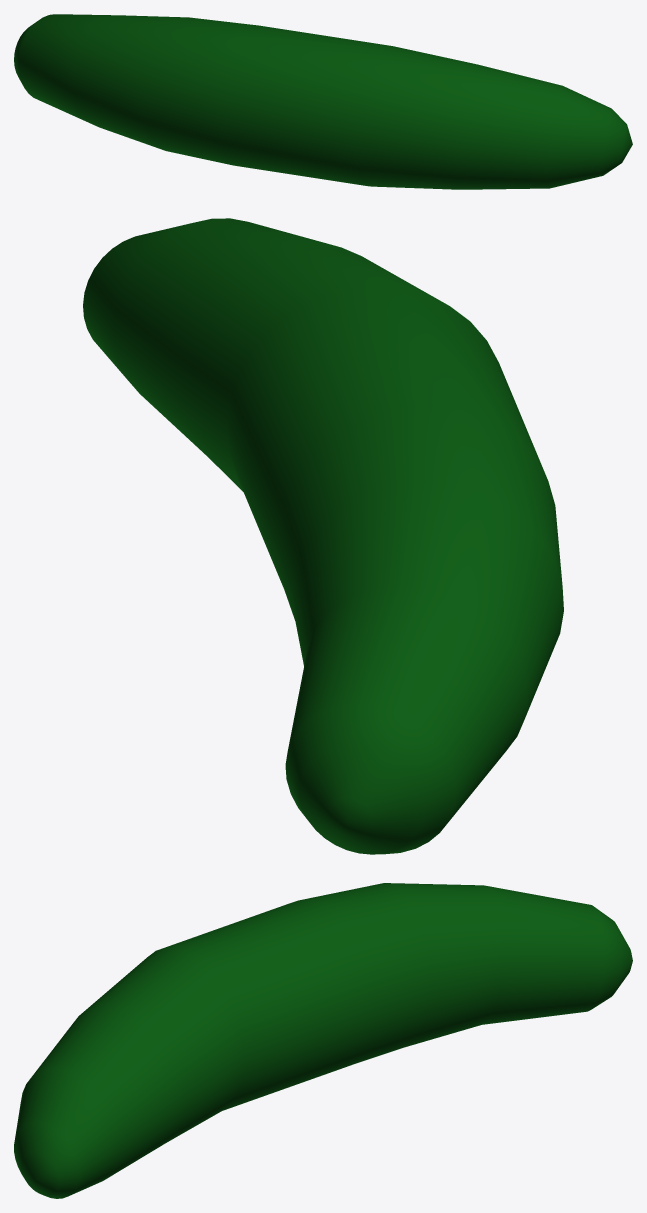
File: Cucumber.fbx
The picture shows the model from 3 angles, top to bottom: view 1: azimuth 30°, elevation 25°; view 2: azimuth 150°, elevation 25°; view 3: azimuth 270°, elevation 25°; orthographic projection. The views are drawn at different scales.
Parts seen in each view (by area): view 1: Cucumber; view 2: Cucumber; view 3: Cucumber.
Boxes of the visible parts, x1,y1,x2,y2 form: Cucumber: [14, 14, 632, 189]; Cucumber: [83, 218, 563, 854]; Cucumber: [14, 883, 632, 1198].
Size of the model in its own units: 6.41 by 2 by 7.12.
